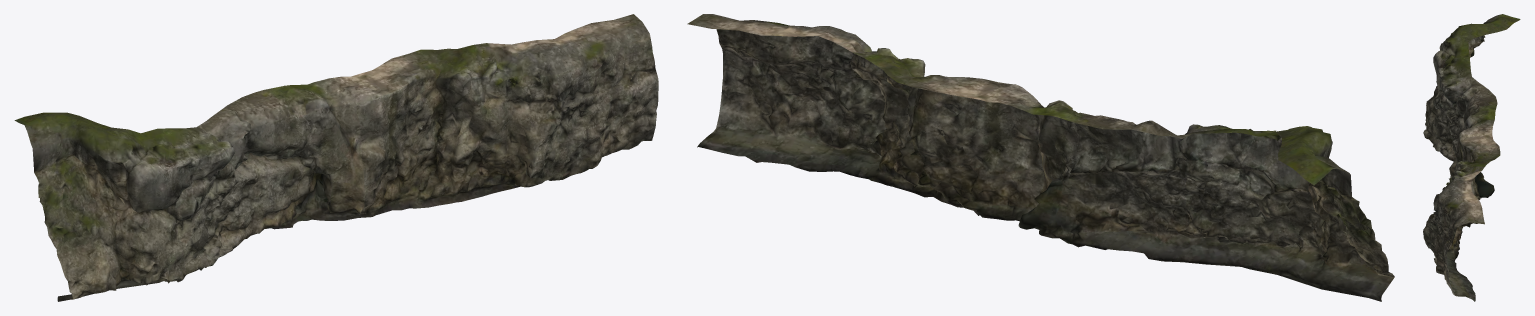
Rendered from coastal_cliff_02.glb.
3 renders of one model, left to right at view 1: azimuth 30°, elevation 25°; view 2: azimuth 150°, elevation 25°; view 3: azimuth 270°, elevation 25°, orthographic. The views are drawn at different scales.
Visible parts, largest first — view 1: coastal_cliff_02_LOD0; view 2: coastal_cliff_02_LOD0; view 3: coastal_cliff_02_LOD0.
Boxes of the visible parts, bbox=[...] form: coastal_cliff_02_LOD0: bbox=[14, 14, 658, 301]; coastal_cliff_02_LOD0: bbox=[687, 14, 1394, 301]; coastal_cliff_02_LOD0: bbox=[1423, 14, 1520, 301].
Bounding box in the file's own units: 40.93 × 10 × 8.6.
Materials: 1 (1 with a texture image).
